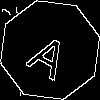A: (25, 25, 78, 81)
